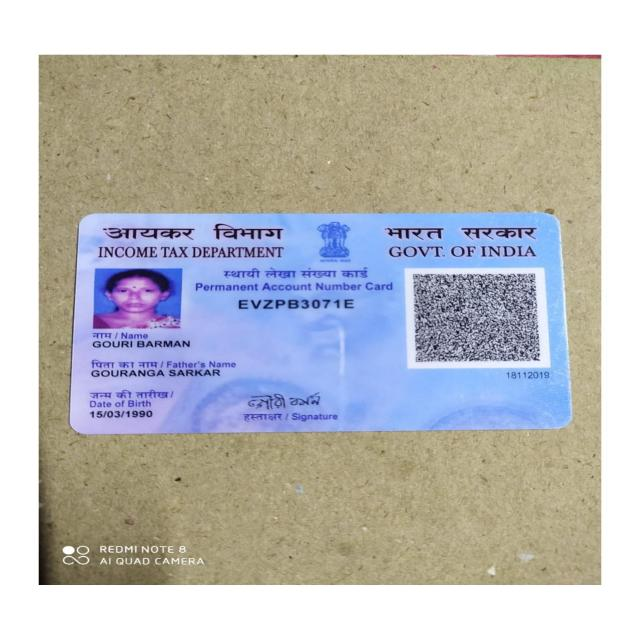pan_card: (71, 215, 568, 430)
